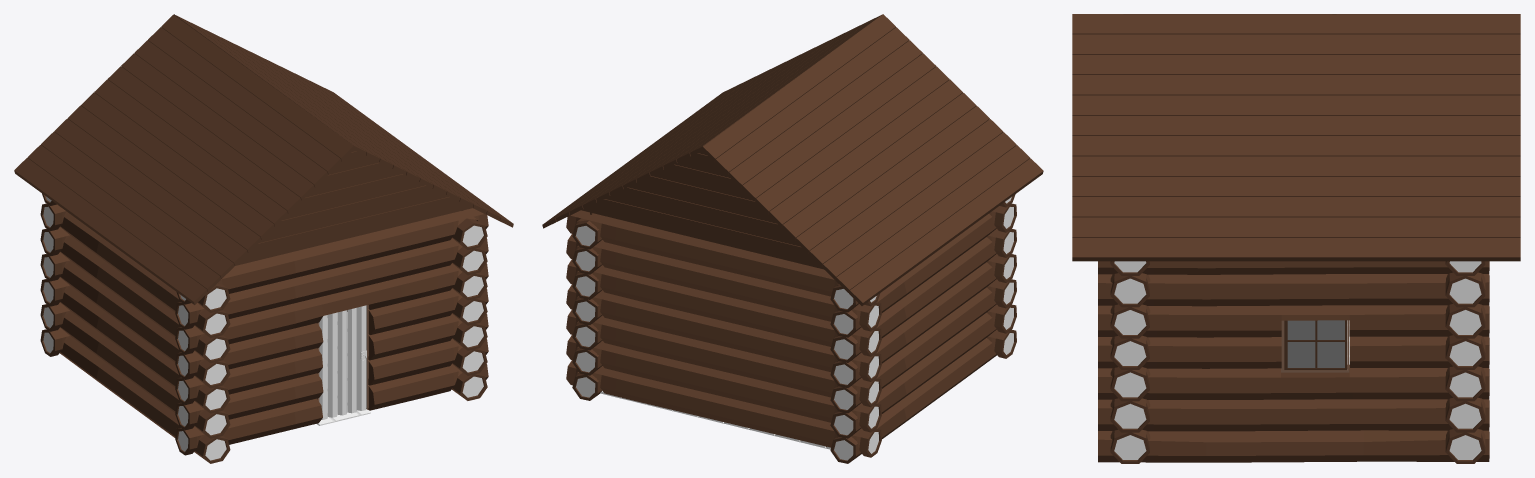
The model's file is LogHut.glb.
3 renders of one model, left to right at view 1: azimuth 30°, elevation 25°; view 2: azimuth 150°, elevation 25°; view 3: azimuth 270°, elevation 25°, orthographic. The views are drawn at different scales.
Parts seen in each view (by area): view 1: LogHutV1.1, RoofV1.1, LogDoorV1.1, FloorV1.1; view 2: LogHutV1.1, RoofV1.1, FloorV1.1; view 3: RoofV1.1, LogHutV1.1, WindowV1.1.
Boxes of the visible parts, x1=… form: LogHutV1.1: x1=40, y1=193, x2=488, y2=463; RoofV1.1: x1=14, y1=14, x2=513, y2=304; LogDoorV1.1: x1=319, y1=305, x2=366, y2=419; FloorV1.1: x1=316, y1=312, x2=370, y2=425; LogHutV1.1: x1=566, y1=194, x2=1016, y2=463; RoofV1.1: x1=542, y1=14, x2=1043, y2=305; FloorV1.1: x1=600, y1=391, x2=830, y2=449; RoofV1.1: x1=1072, y1=14, x2=1520, y2=261; LogHutV1.1: x1=1098, y1=261, x2=1489, y2=463; WindowV1.1: x1=1284, y1=320, x2=1346, y2=370.
Bounding box in the file's own units: 13.73 × 12.06 × 13.38.
